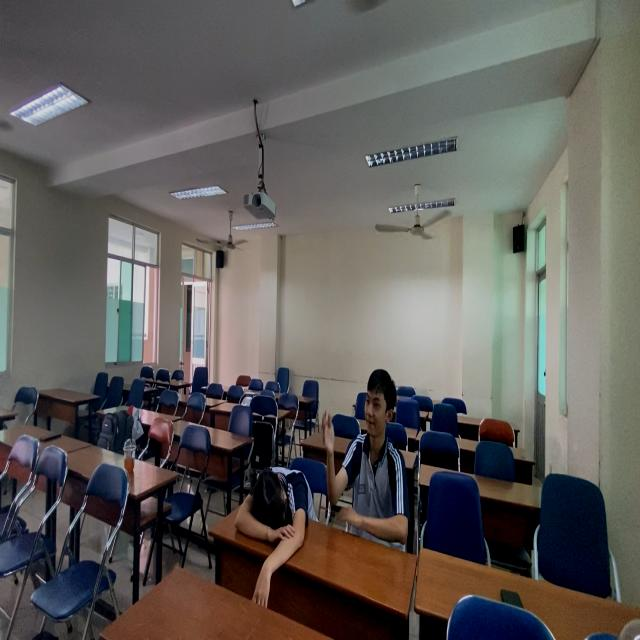raise_hand: (322, 360, 409, 549)
sleep: (233, 452, 322, 552)
